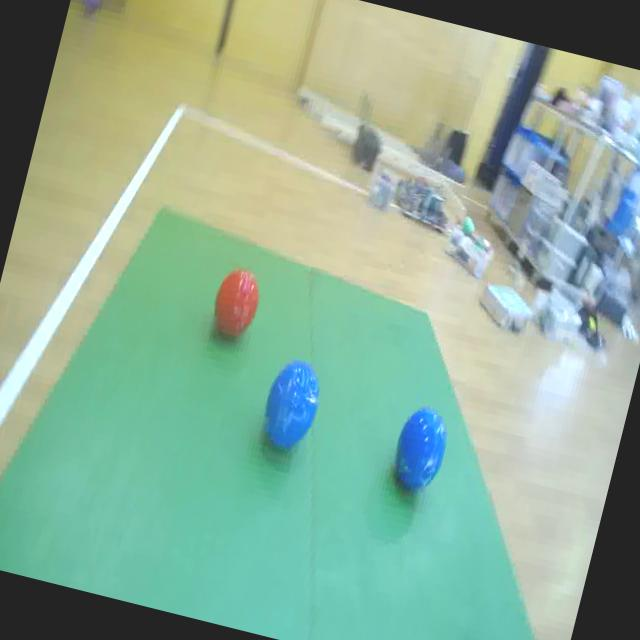blue_ball: (253, 350, 329, 460), (383, 396, 455, 500)
purple_ball: (82, 0, 104, 18)
red_ball: (204, 262, 268, 346)
